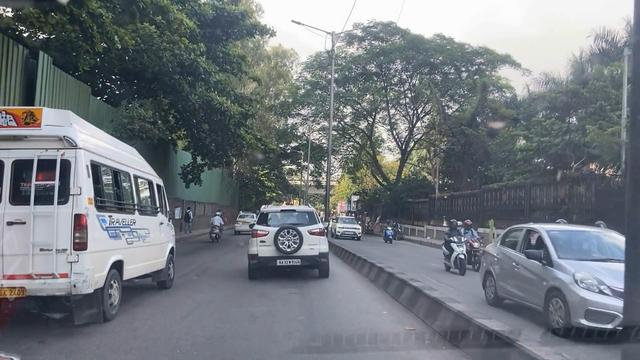HMV: (0, 104, 175, 321)
LMV: (239, 202, 331, 279)
